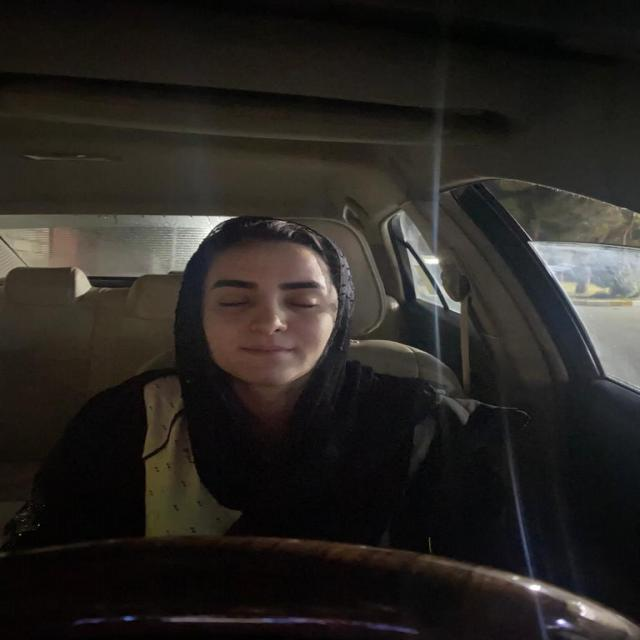drowsy: (198, 224, 354, 385)
